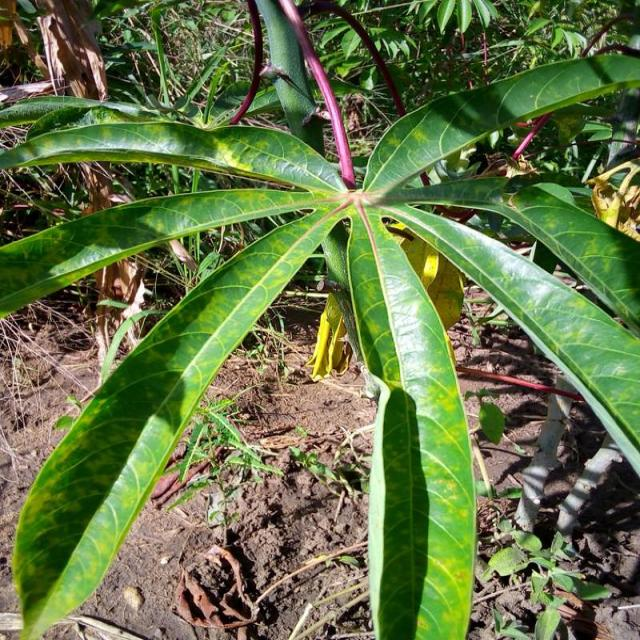cassava leaf: (2, 1, 640, 638), (11, 200, 349, 638), (346, 200, 478, 638)
